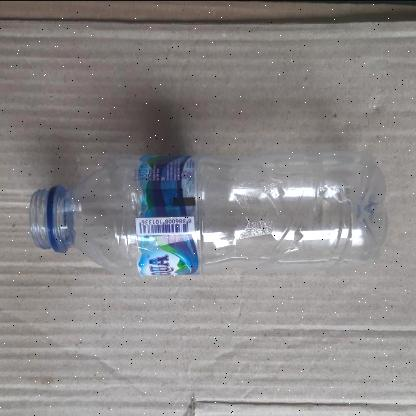Plastic Bottle: (27, 152, 387, 274)
